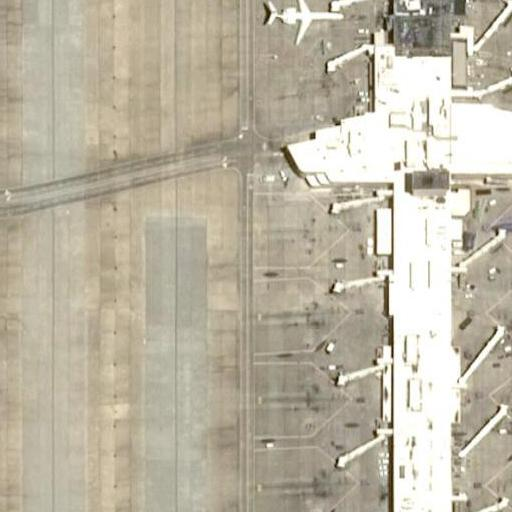Aircraft: (259, 0, 349, 39), (494, 182, 512, 266), (506, 46, 512, 100), (499, 0, 512, 22)
